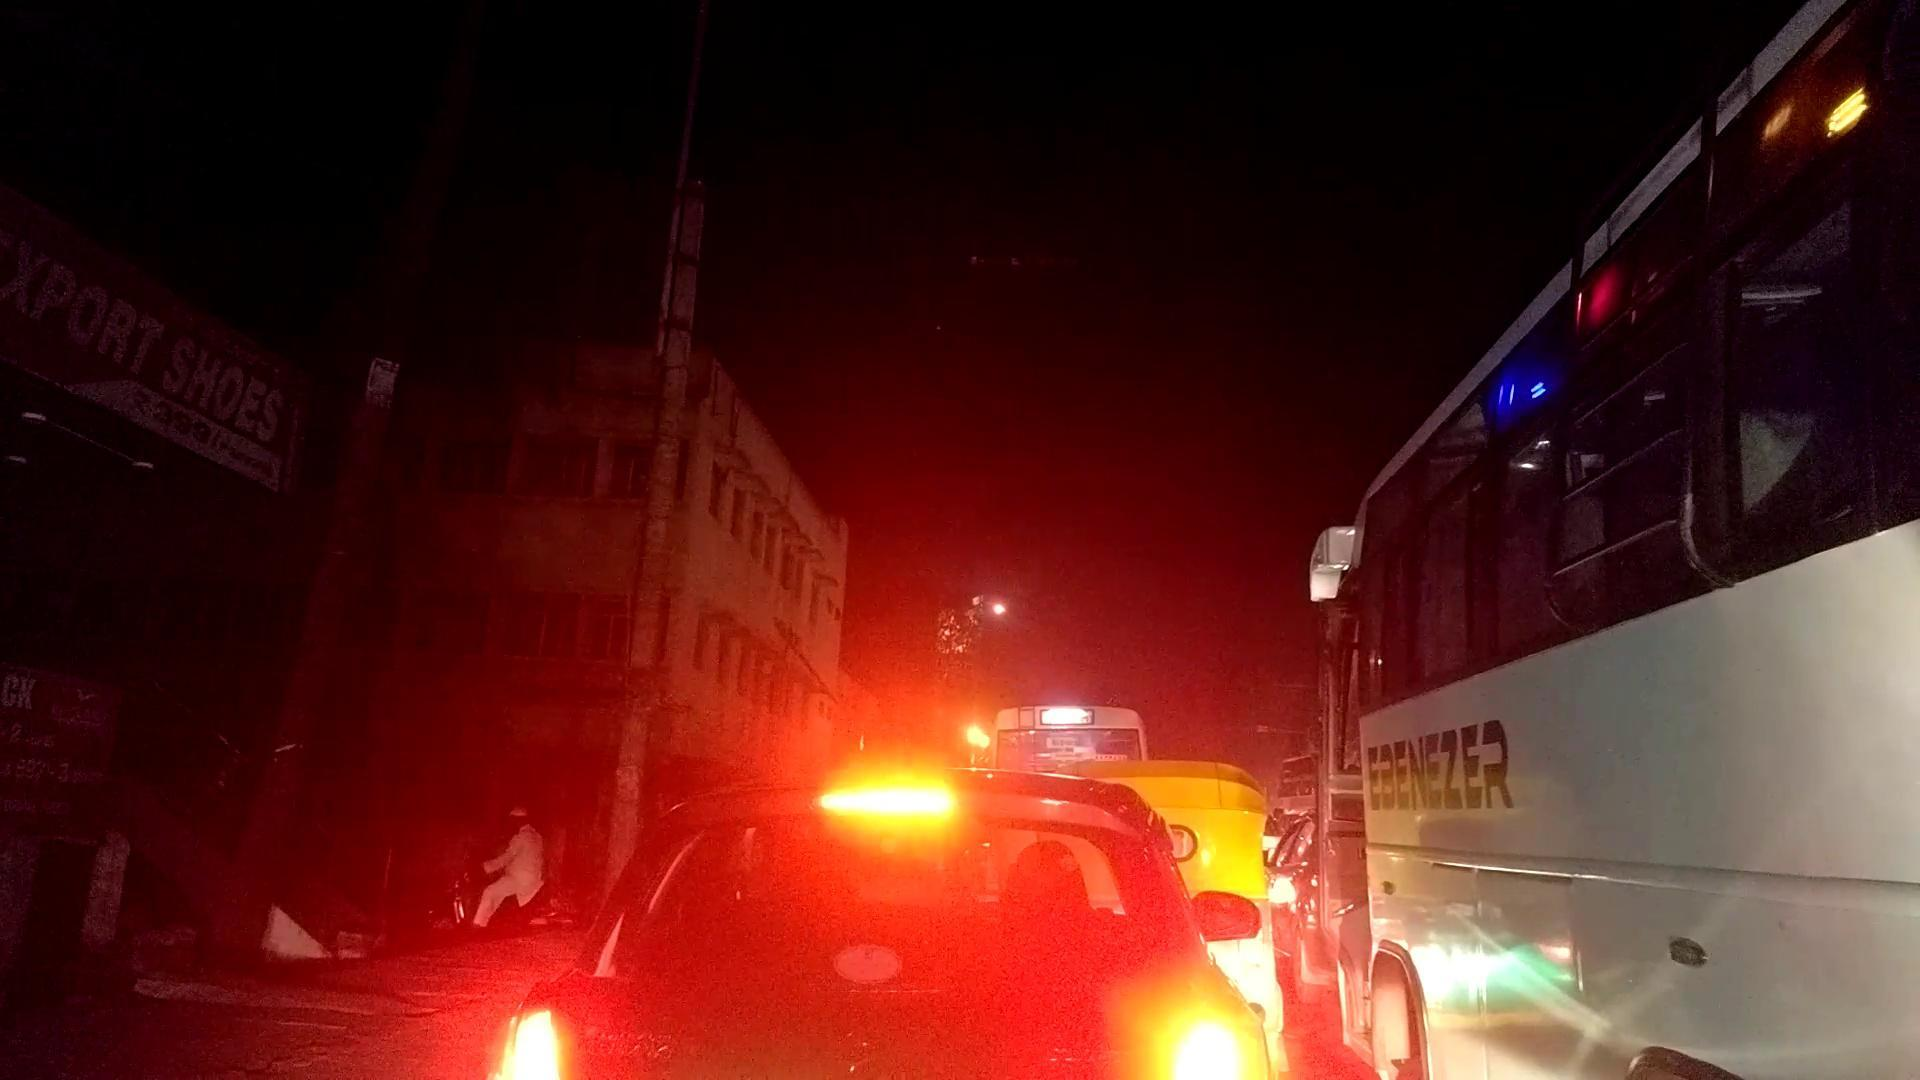on: (1100, 483, 1495, 1075)
